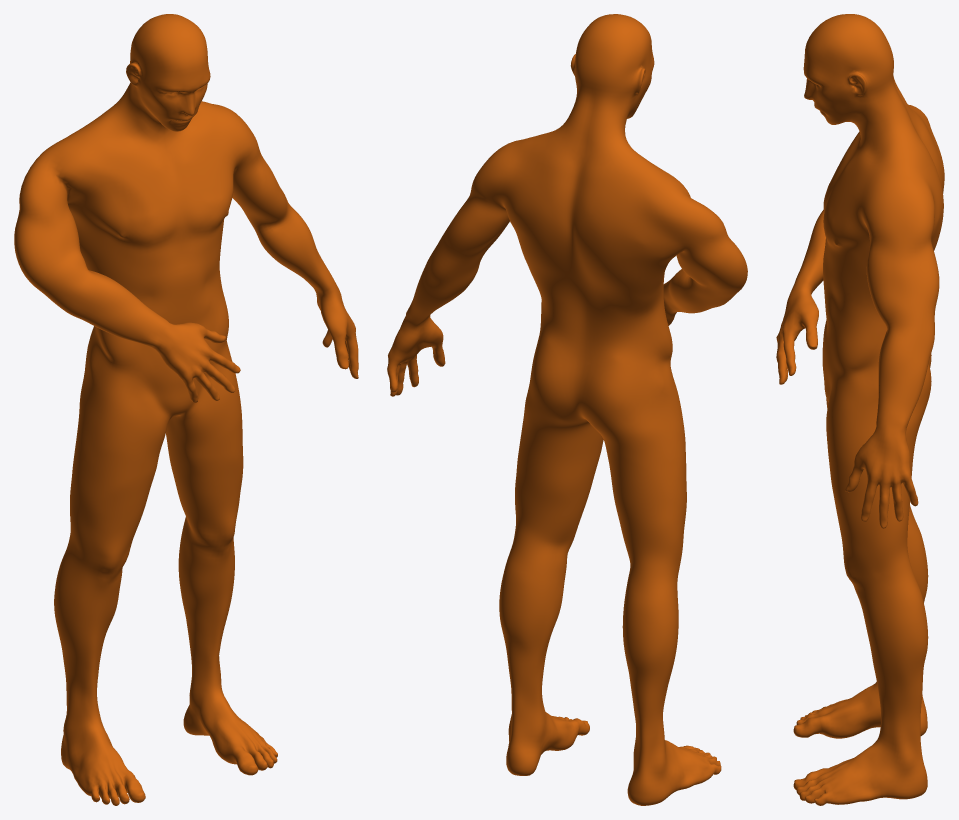
The model's file is man.obj.
3 renders of one model, left to right at view 1: azimuth 30°, elevation 25°; view 2: azimuth 150°, elevation 25°; view 3: azimuth 270°, elevation 25°, orthographic.
Visible parts, largest first — view 1: Group1.001; view 2: Group1.001; view 3: Group1.001.
Boxes of the visible parts, left/top/right/bottom form: Group1.001: left=14, top=14, right=358, bottom=805; Group1.001: left=387, top=14, right=747, bottom=805; Group1.001: left=776, top=14, right=944, bottom=805.
Bounding box in the file's own units: 0.8735 × 1.83 × 0.3725.
